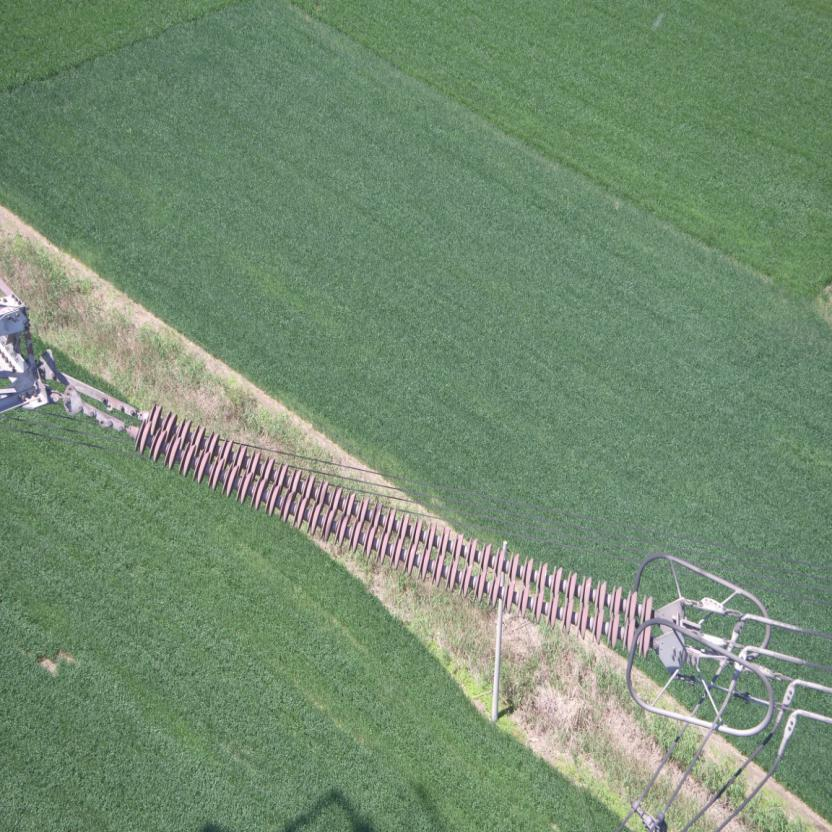insulator: (100, 394, 665, 660)
